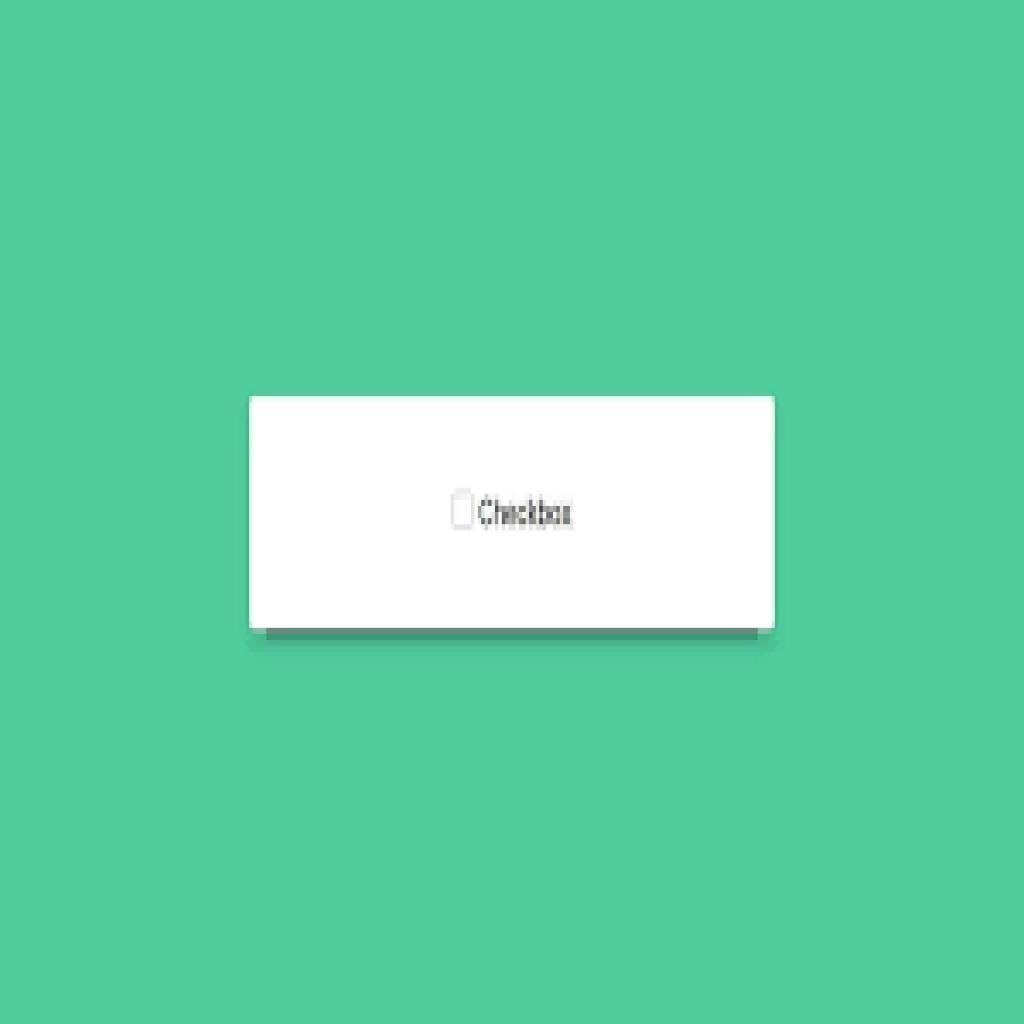checkbox: (453, 490, 474, 528)
